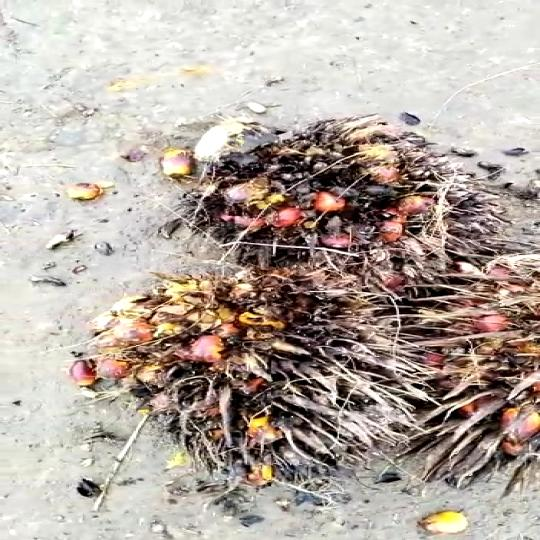terlalu masak: (31, 260, 433, 488), (169, 113, 531, 283)
